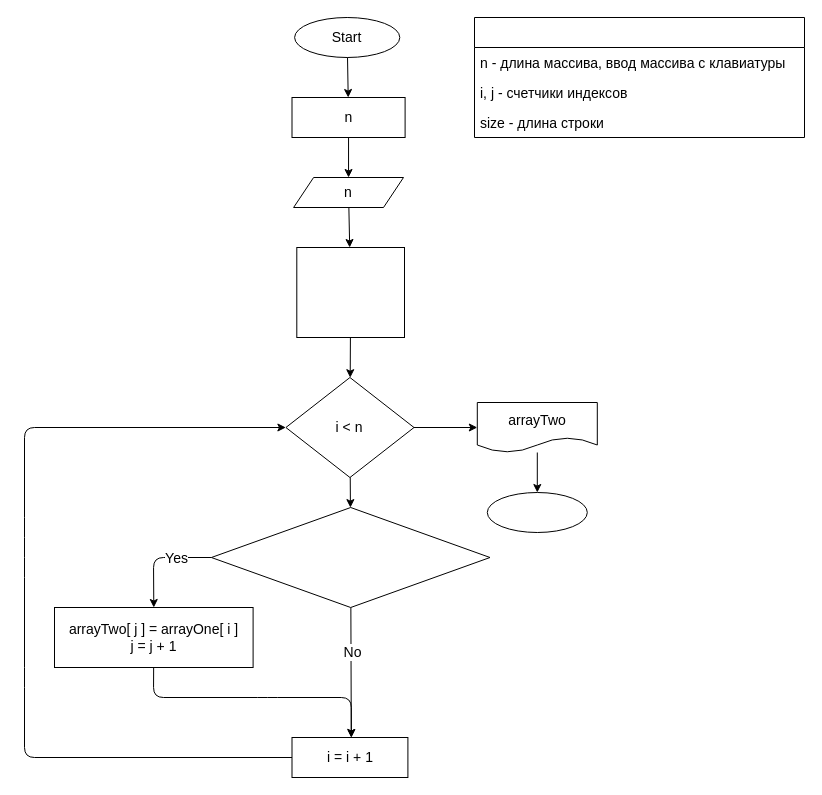
Image size: 822x795. Some labels were removed from this diagram. Here are the shapes that lost their labels. From the top down, the box of each, then its label:
(474, 16, 804, 138): Обозначения
(296, 246, 404, 338): arrayOne[n] arrayTwo[n] i = 0 j = 0
(486, 492, 587, 532): Finish
(210, 506, 490, 608): arrayOne[ i ].size < 4
